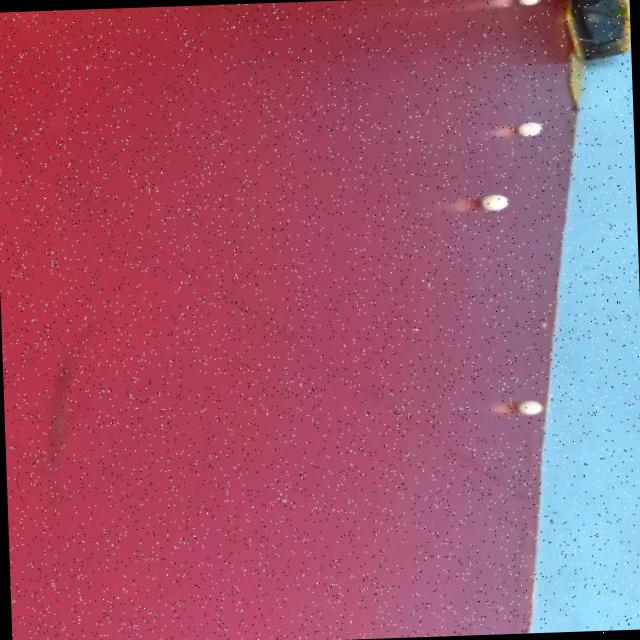ping-pong-ball: (507, 394, 553, 419), (507, 116, 548, 140), (474, 190, 515, 212), (508, 0, 547, 8)
